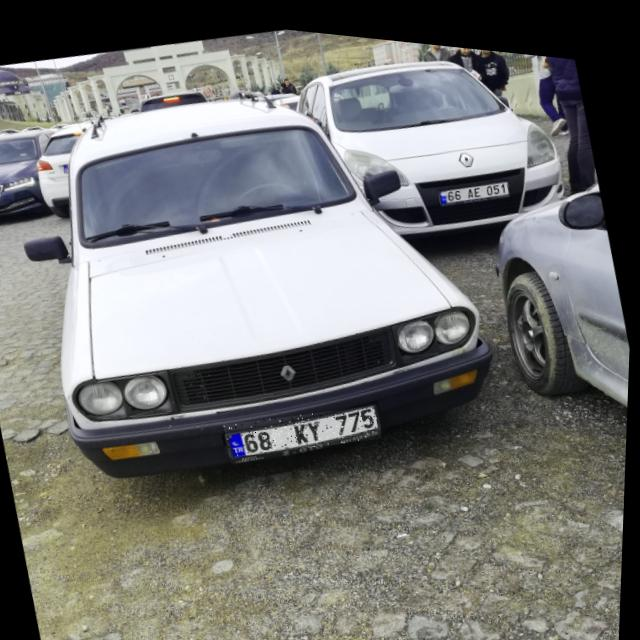license_plate: (225, 384, 385, 464)
